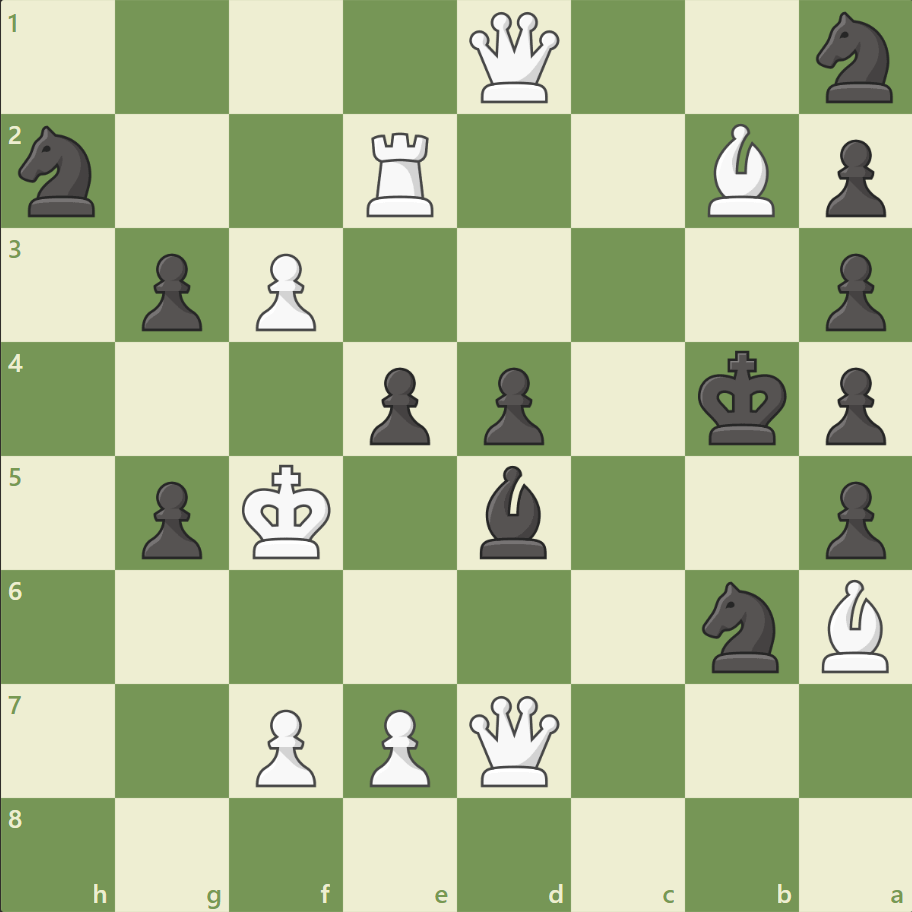B: (812, 574, 896, 676), (698, 120, 782, 222)
K: (238, 458, 338, 566)
P: (247, 700, 322, 791), (247, 246, 322, 337), (361, 700, 435, 791)
Q: (464, 690, 563, 789), (464, 9, 563, 108)
R: (360, 125, 442, 222)
b: (471, 460, 555, 563)
k: (692, 344, 792, 452)
n: (806, 7, 903, 110), (692, 575, 789, 677), (11, 121, 108, 223)
p: (133, 473, 208, 564), (474, 359, 549, 450), (133, 246, 208, 337), (815, 473, 889, 564), (815, 359, 889, 450), (361, 359, 435, 450), (815, 246, 889, 337), (815, 132, 889, 223)
